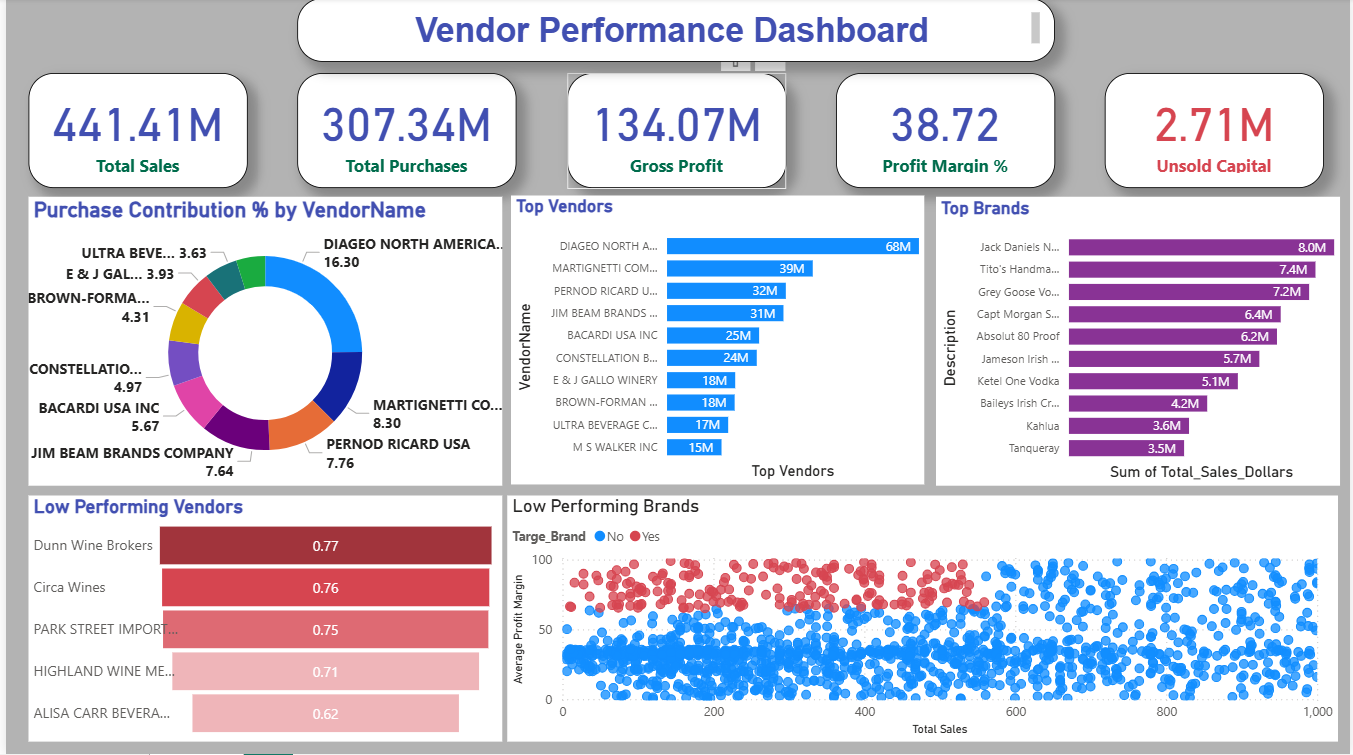

This screenshot's page, from the dashboard's own definition file:
{"tool":"powerbi","page":{"name":"Page 1","canvas":[1280,720],"ordinal":0},"visuals":[{"type":"card","title":"Total Sales","fields":{"Values":["Sum(vendor_sales_summary.Total_Sales_Dollars)"]},"box":[21.7,71.9,208.6,109.8],"z":0},{"type":"card","title":"Total Sales","fields":{"Values":["Sum(vendor_sales_summary.Total_Purchase_Dollars)"]},"box":[277.9,71.9,208.6,109.8],"z":1000},{"type":"card","title":"Total Sales","fields":{"Values":["Sum(vendor_sales_summary.Gross_Profit)"]},"box":[534.2,71.9,208.6,109.8],"z":2000},{"type":"card","title":"Total Sales","fields":{"Values":["Avg(vendor_sales_summary.Profit_Margin)"]},"box":[790.5,71.9,208.6,109.8],"z":3000},{"type":"card","title":"Total Sales","fields":{"Values":["Sum(vendor_sales_summary.Unsold_Inventory_Value)"]},"box":[1046.7,71.9,208.6,109.8],"z":4000},{"type":"textbox","box":[277.4,0,721.4,60.7],"z":5000},{"type":"donutChart","fields":{"Y":["Sum(Purchase_Contribution.Purchase_Contribution%)"],"Category":["Purchase_Contribution.VendorName"]},"box":[21.4,189.3,451.2,275],"z":6000},{"type":"clusteredBarChart","title":"Top Vendors ","fields":{"Category":["vendor_sales_summary.VendorName"],"Y":["Sum(vendor_sales_summary.Total_Sales_Dollars)"]},"box":[480.4,188.6,393.7,275.3],"z":7000},{"type":"clusteredBarChart","title":"Top Brands","fields":{"Y":["Sum(vendor_sales_summary.Total_Sales_Dollars)"],"Category":["vendor_sales_summary.Description"]},"box":[885.7,189.3,384.5,275],"z":8000},{"type":"funnel","title":"Low Performing Vendors","fields":{"Category":["Low_Turnover_Vendor.VendorName"],"Y":["Sum(Low_Turnover_Vendor.Average_Stock_Turnover)"]},"box":[21.4,473.8,451.2,234.5],"z":9000},{"type":"scatterChart","title":"Low Performing Brands","fields":{"Category":["Brand_Performance.Description"],"Series":["Brand_Performance.Targe_Brand"],"X":["Sum(Brand_Performance.Total_Sales)"],"Y":["Sum(Brand_Performance.Average_Profit_Margin)"]},"box":[477.7,473.6,791.6,234],"z":10000}]}

Visuals, with their boxes in screenshot pixels (x1, y1, x2, y2), scaled from the page's 1280x720 canvas onto the 1353x755 screenshot:
"Total Sales" card: [23, 75, 243, 191]
"Total Sales" card: [294, 75, 514, 191]
"Total Sales" card: [565, 75, 785, 191]
"Total Sales" card: [836, 75, 1056, 191]
"Total Sales" card: [1106, 75, 1327, 191]
textbox: [293, 0, 1056, 64]
donutChart - Sum(Purchase_Contribution.Purchase_Contribution%) x Purchase_Contribution.VendorName: [23, 199, 500, 487]
"Top Vendors " clusteredBarChart: [508, 198, 924, 486]
"Top Brands" clusteredBarChart: [936, 199, 1343, 487]
"Low Performing Vendors" funnel: [23, 497, 500, 743]
"Low Performing Brands" scatterChart: [505, 497, 1342, 742]
